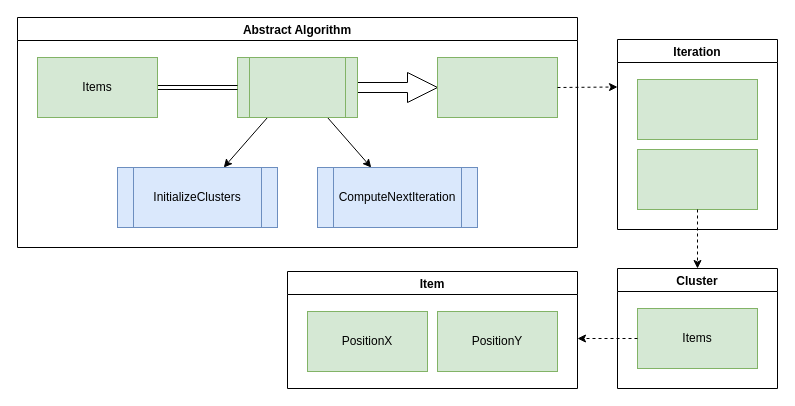
Image size: 795x406. Some labels were removed from this diagram. Here are the shapes that lost their labels. From the top down, the centre of each, then its label:
point 297,87: Compute
point 497,87: Iterations
point 697,109: Order
point 697,179: Clusters
